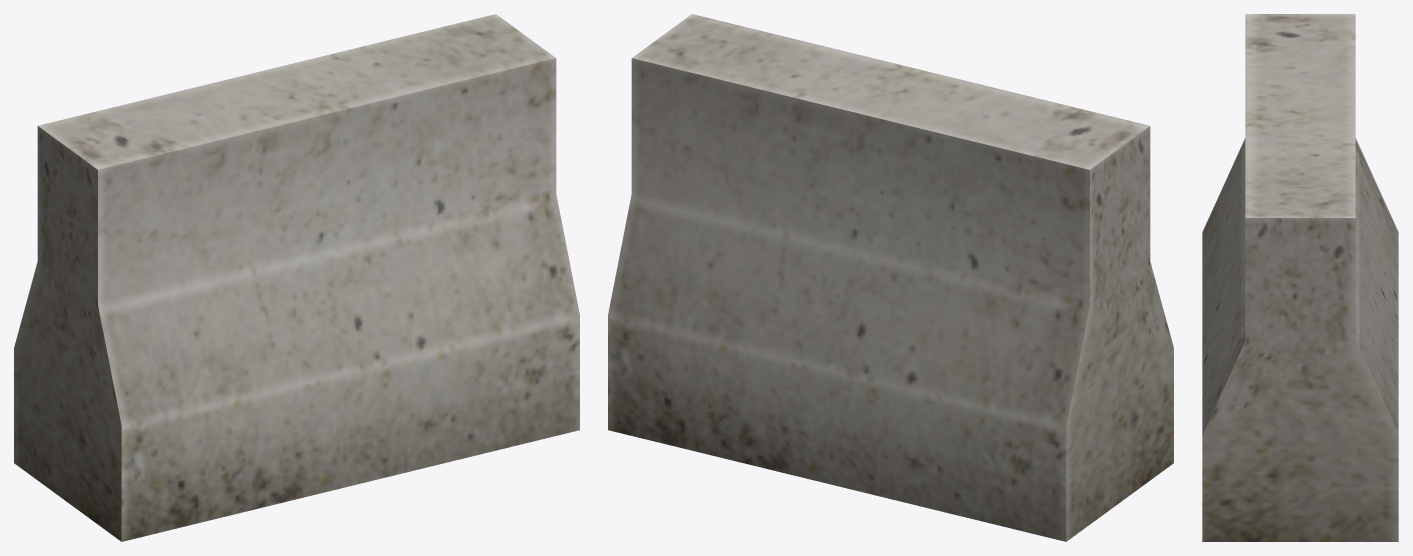
Rendered from ConcretBlock01.FBX.
3 renders of one model, left to right at view 1: azimuth 30°, elevation 25°; view 2: azimuth 150°, elevation 25°; view 3: azimuth 270°, elevation 25°, orthographic. The views are drawn at different scales.
Parts seen in each view (by area): view 1: ConcretBlock01; view 2: ConcretBlock01; view 3: ConcretBlock01.
Boxes of the visible parts, x1=… form: ConcretBlock01: x1=14, y1=14, x2=579, y2=541; ConcretBlock01: x1=608, y1=14, x2=1173, y2=541; ConcretBlock01: x1=1202, y1=14, x2=1398, y2=541.
Size of the model in its own units: 65.39 by 48.38 by 26.6.
